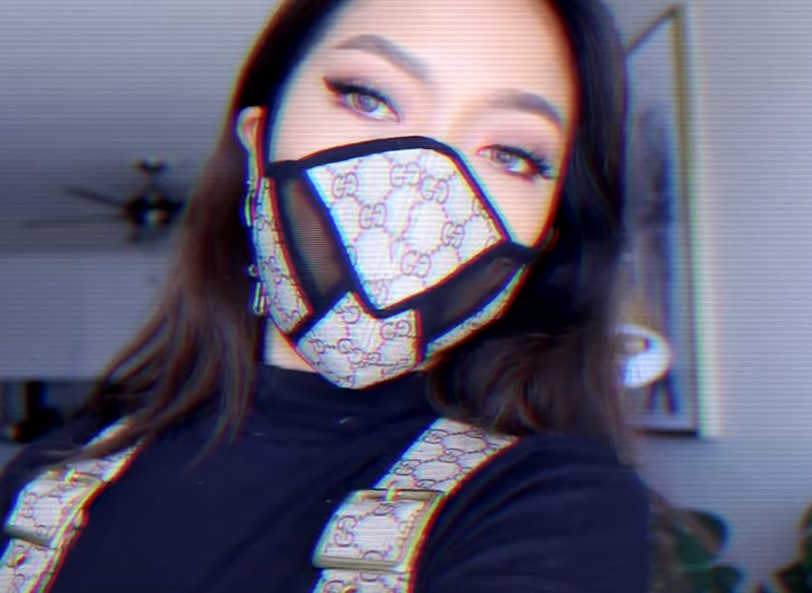face_with_mask: (230, 5, 611, 395)
